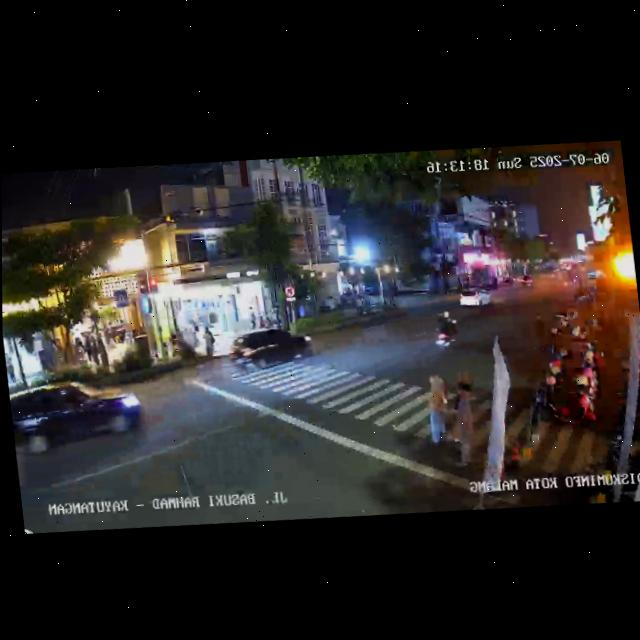car: (8, 371, 149, 465), (226, 321, 313, 374), (455, 284, 493, 313)
motorcycle: (431, 308, 460, 352)
person: (450, 376, 489, 476), (420, 372, 458, 455), (85, 332, 101, 369), (203, 324, 217, 360), (190, 317, 203, 353), (73, 334, 87, 365), (5, 356, 16, 383), (248, 306, 258, 328)
